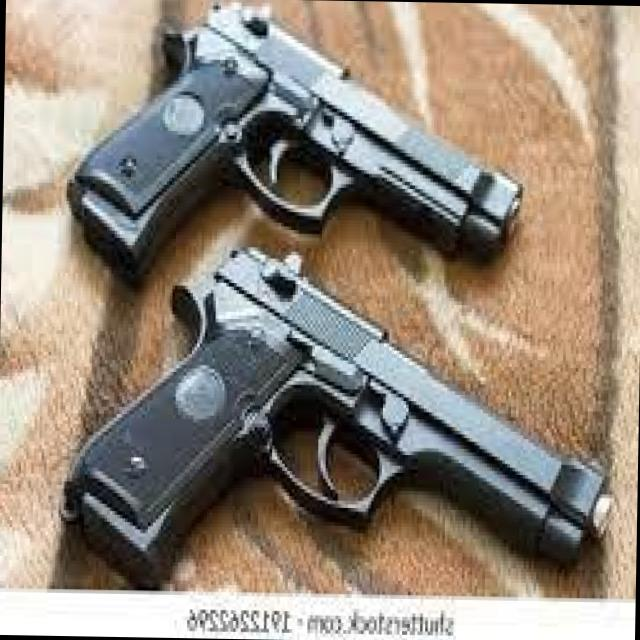Gun: (25, 276, 640, 585), (51, 9, 542, 319)
